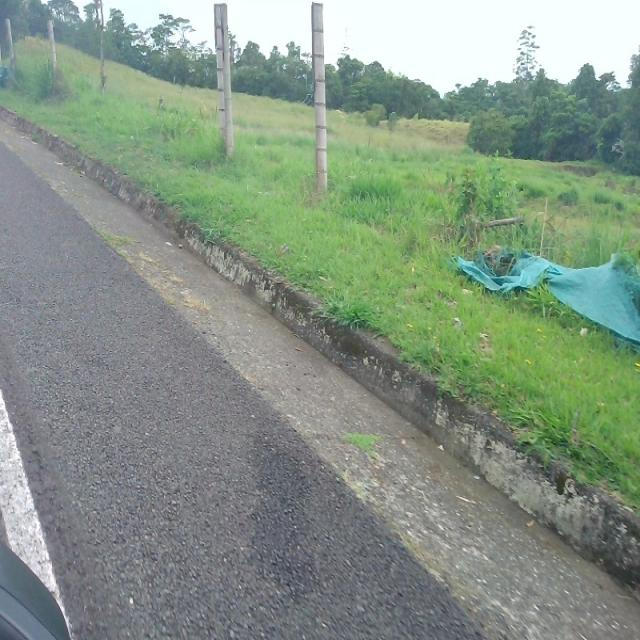DITCH: (1, 103, 638, 638)
